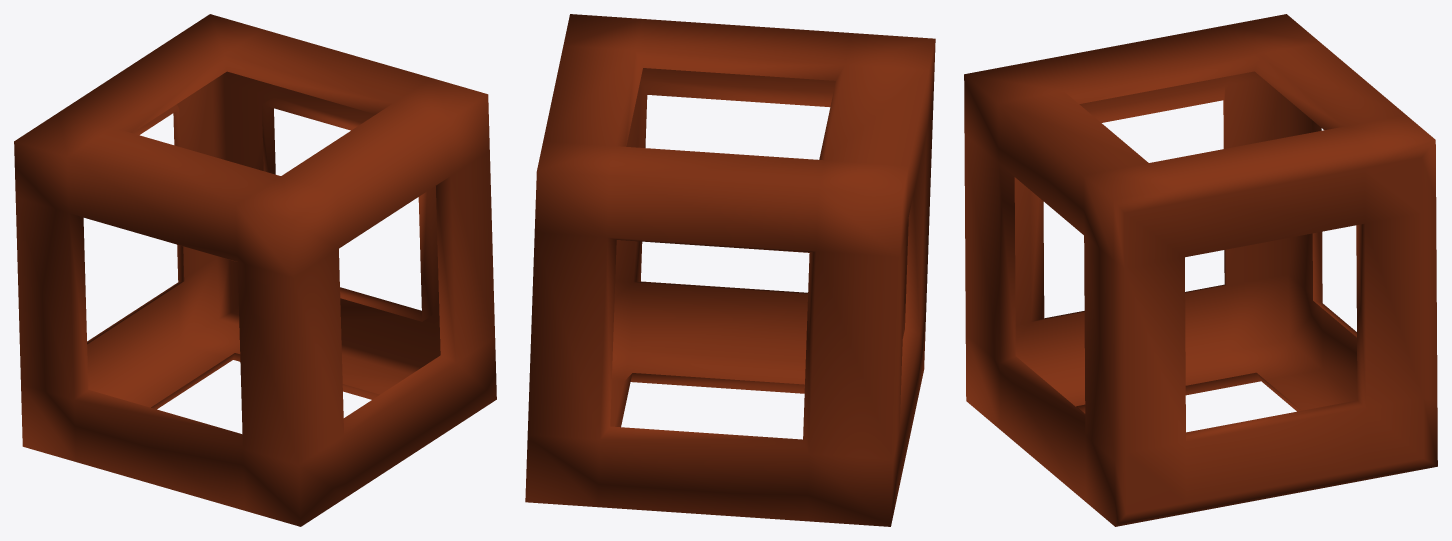
The model's file is cube.1298_lev3.glb.
The picture shows the model from 3 angles, left to right: view 1: azimuth 30°, elevation 25°; view 2: azimuth 150°, elevation 25°; view 3: azimuth 270°, elevation 25°; orthographic projection. The views are drawn at different scales.
Visible parts, largest first — view 1: cube.1298_lev3; view 2: cube.1298_lev3; view 3: cube.1298_lev3.
Boxes of the visible parts, x1=… form: cube.1298_lev3: x1=14, y1=14, x2=496, y2=526; cube.1298_lev3: x1=525, y1=14, x2=935, y2=526; cube.1298_lev3: x1=964, y1=14, x2=1437, y2=526.
Size of the model in its own units: 0.192 by 0.1469 by 0.1883.
